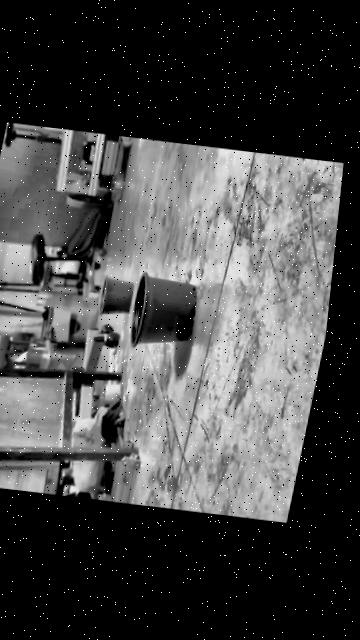pot: (122, 272, 200, 354), (95, 276, 135, 318)
